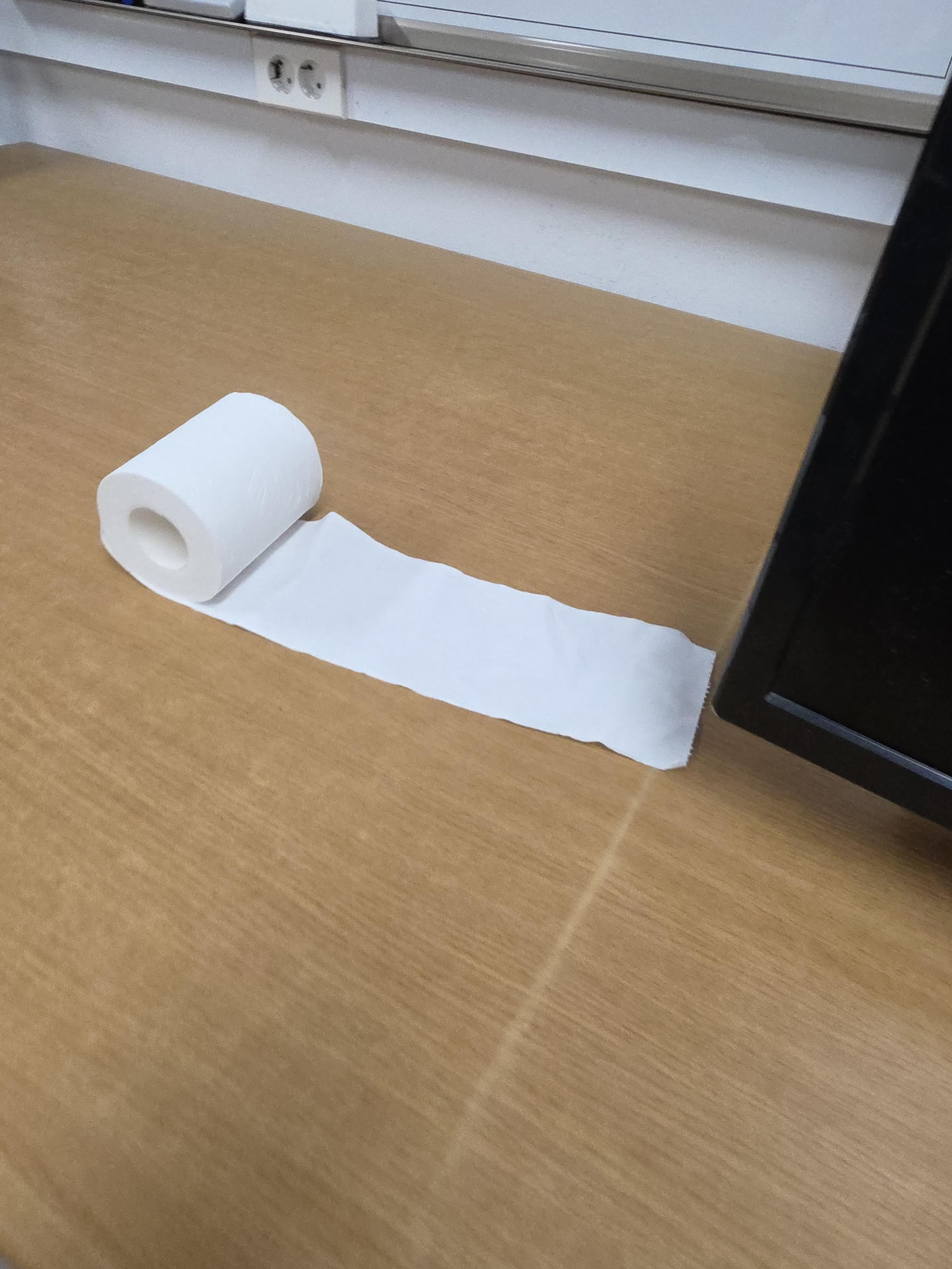tissue: (96, 391, 717, 771)
